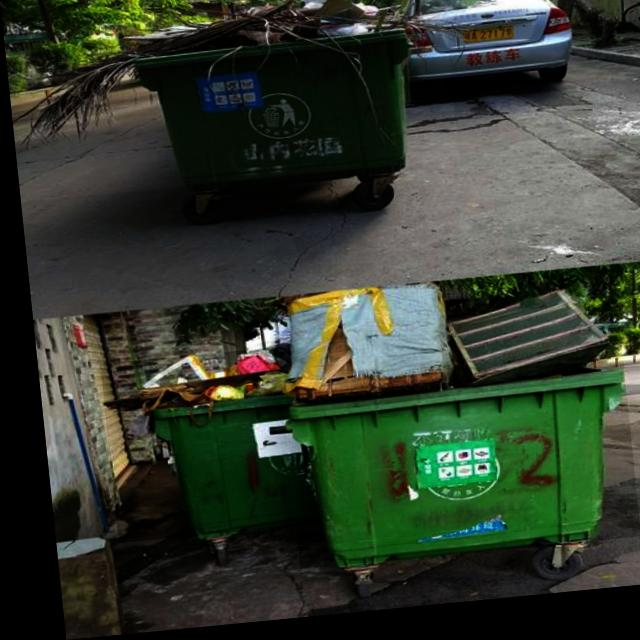overflow: (265, 276, 628, 574), (2, 0, 455, 202), (93, 351, 303, 544)
